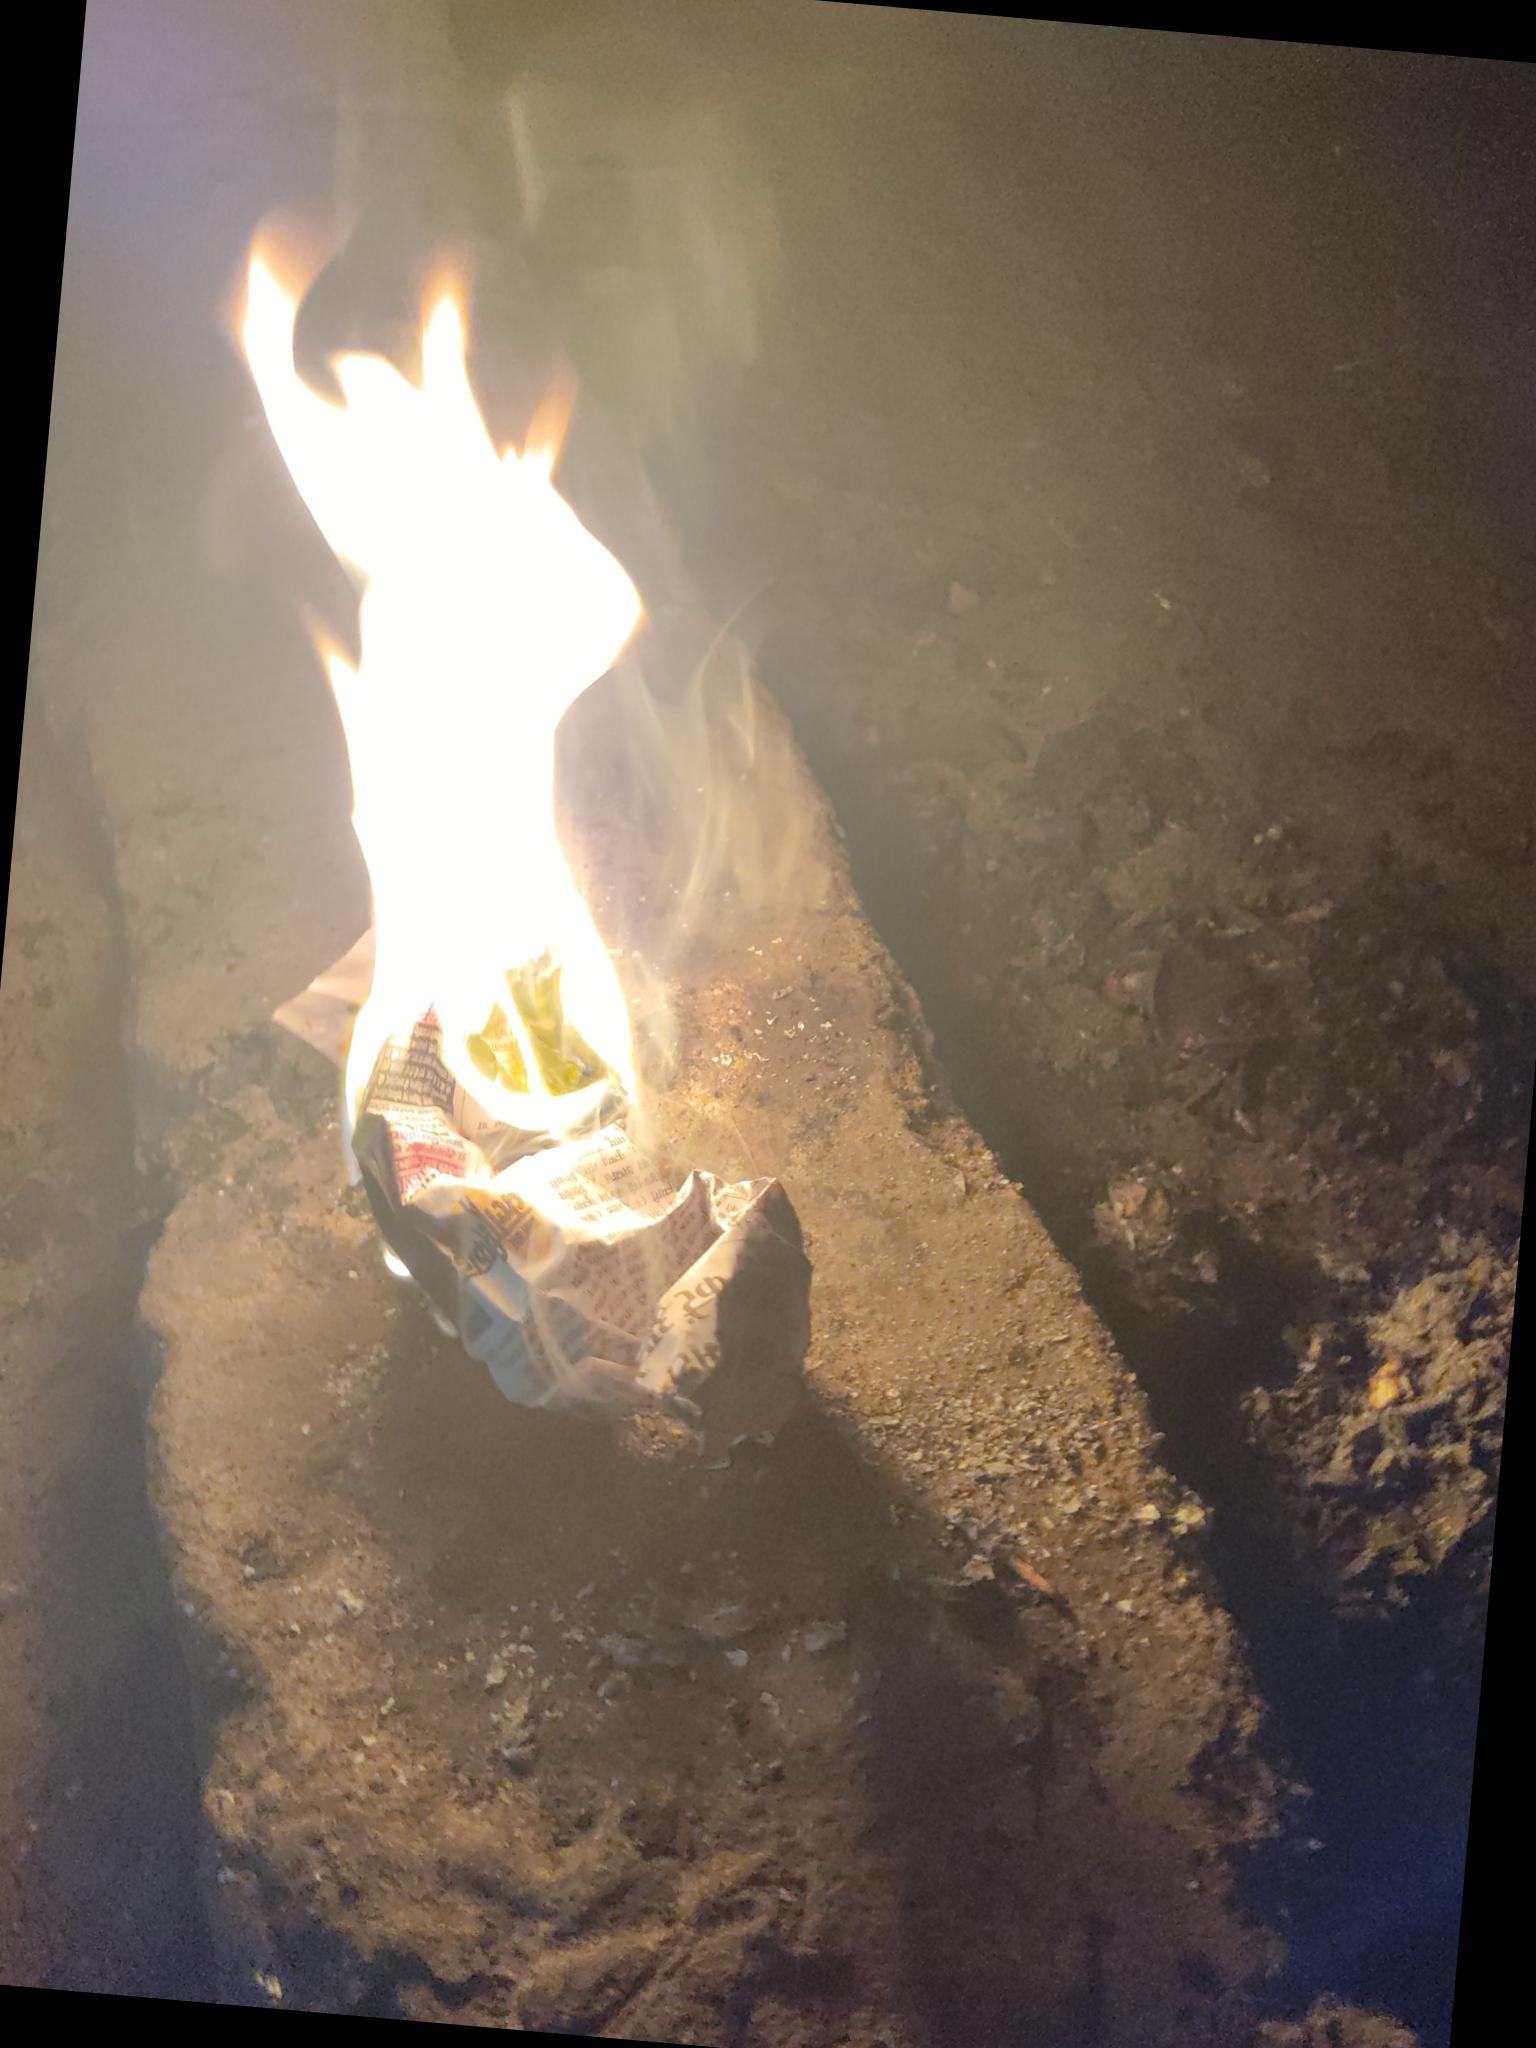Fire: (147, 221, 760, 1251)
